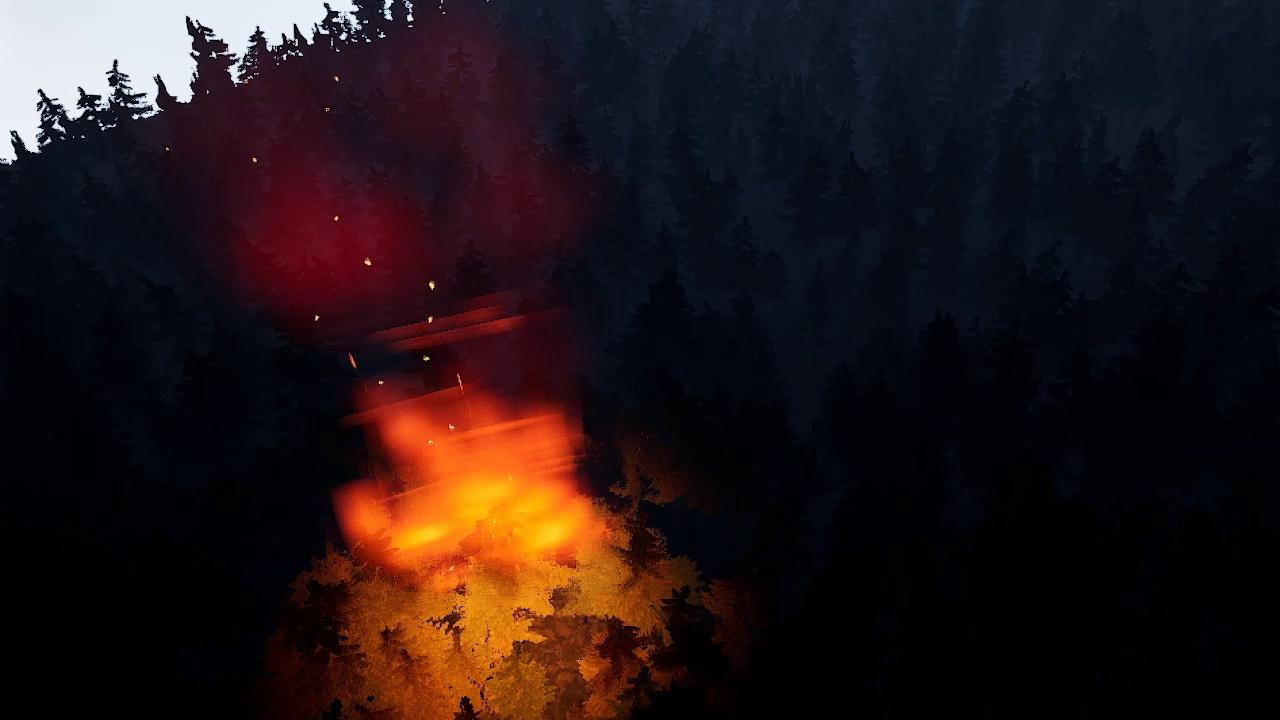fire: (338, 383, 593, 573)
smoke: (172, 16, 577, 433)
